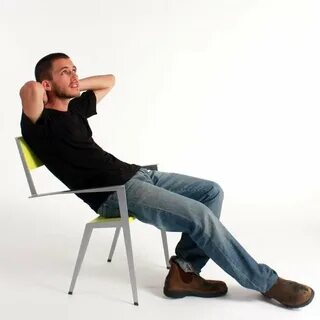awake: (19, 52, 315, 308)
